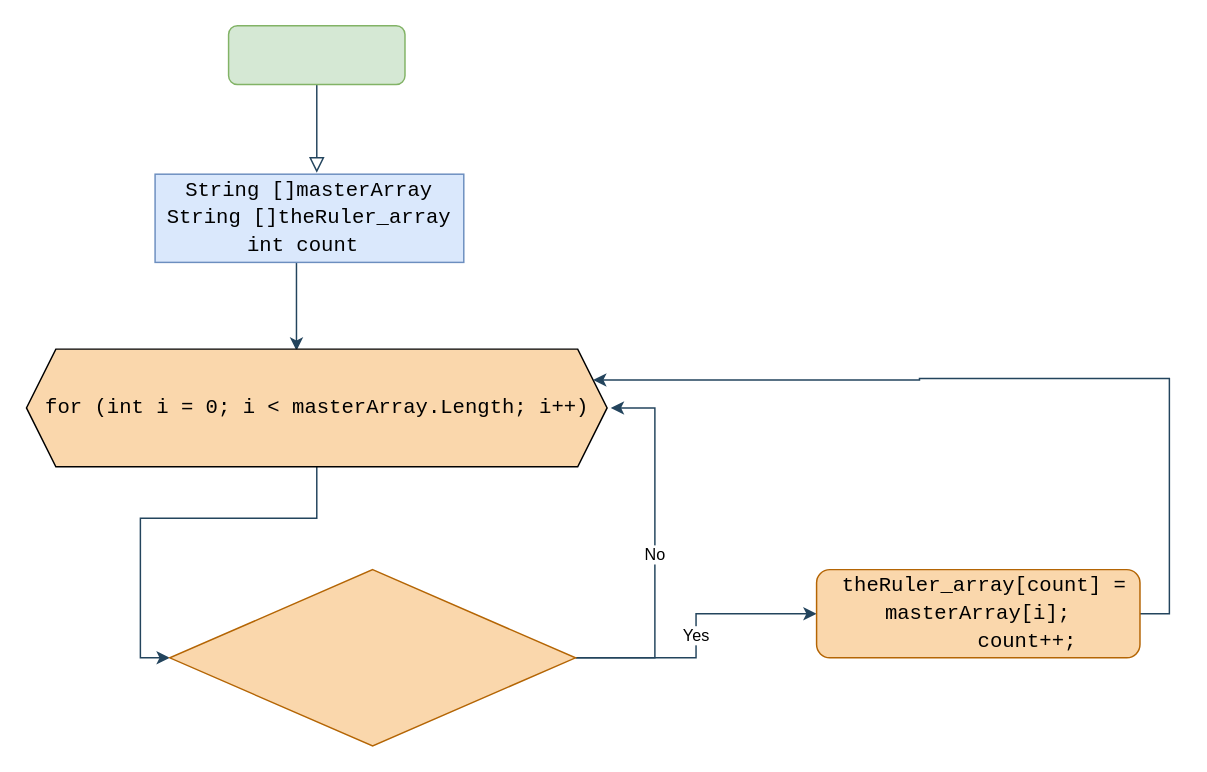
This 1207x772 diagram has some shape labels left out. Each missing label, with the centre of its shape:
if(masterArray[i].Length <= 3): [372,657]
Start: [316,54]
